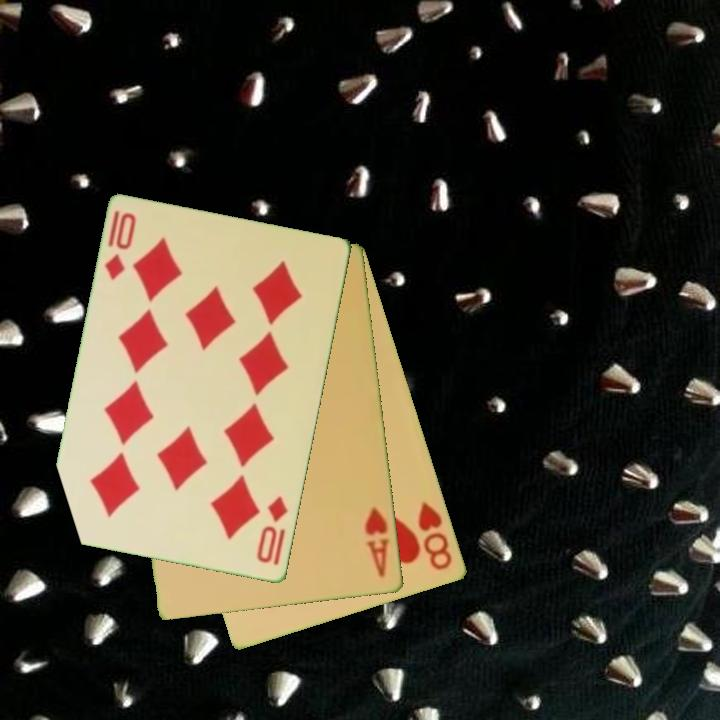10d: (101, 207, 140, 284), (253, 493, 291, 567)
8h: (415, 498, 456, 573)
Ah: (362, 504, 392, 581)
